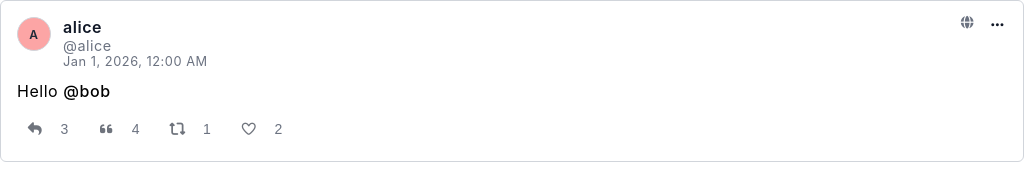
ActivityCard › shows counters and disabled action buttons for anonymous users
The image size is (1024, 179).
Expected: the elements with class "activity-card__count" read "3", "4", "1", "2", in this order, [52,117,76,141]; [124,117,148,141]; [195,117,219,141]; [266,117,290,141]
Expected: the 2nd button with class "app-btn" is disabled, [17,113,52,145]
Click the button named "Open menu": (997, 25) [988,17,1007,33]
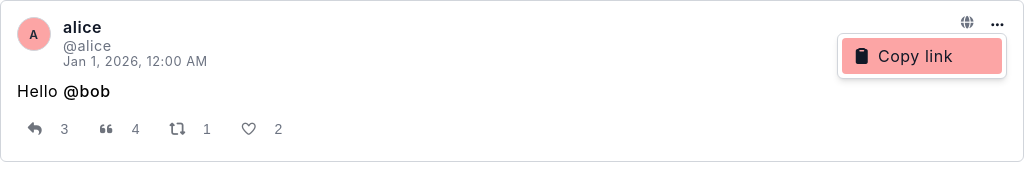
Expected: the text "Copy link" is shown, [878,46,953,66]
